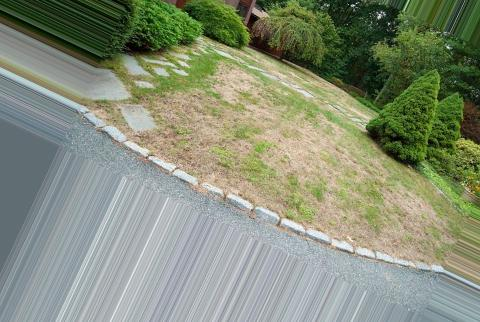patch: (398, 192, 461, 251), (271, 133, 317, 163), (331, 205, 367, 235), (186, 95, 211, 130), (258, 103, 286, 132), (225, 177, 252, 195), (191, 150, 213, 168)
